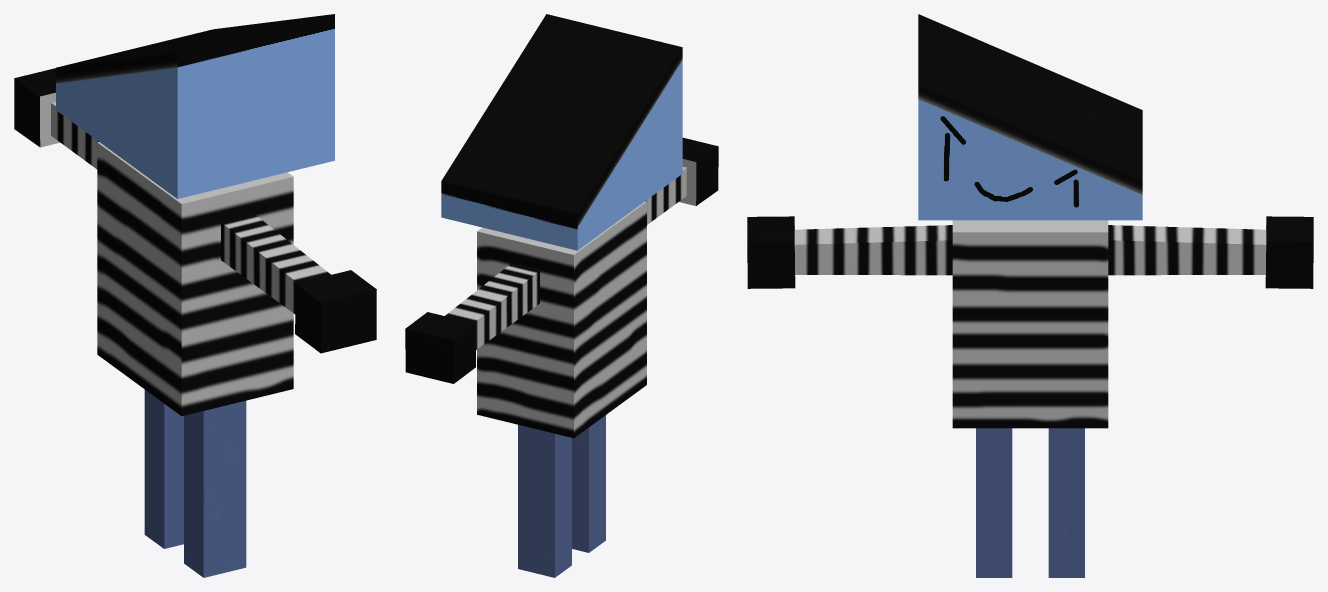
The model's file is test thief.fbx.
The picture shows the model from 3 angles, left to right: view 1: azimuth 30°, elevation 25°; view 2: azimuth 150°, elevation 25°; view 3: azimuth 270°, elevation 25°; orthographic projection. The views are drawn at different scales.
Parts seen in each view (by area): view 1: body.003, head.001; view 2: body.003, head.001; view 3: body.003, head.001.
Boxes of the visible parts, x1,y1,x2,y2 form: body.003: [14, 68, 376, 577]; head.001: [56, 14, 334, 198]; body.003: [405, 137, 718, 577]; head.001: [441, 14, 682, 250]; body.003: [747, 216, 1313, 577]; head.001: [918, 14, 1142, 220].
Size of the model in its own units: 107 by 364 by 360.
2 materials, 2 textured.
